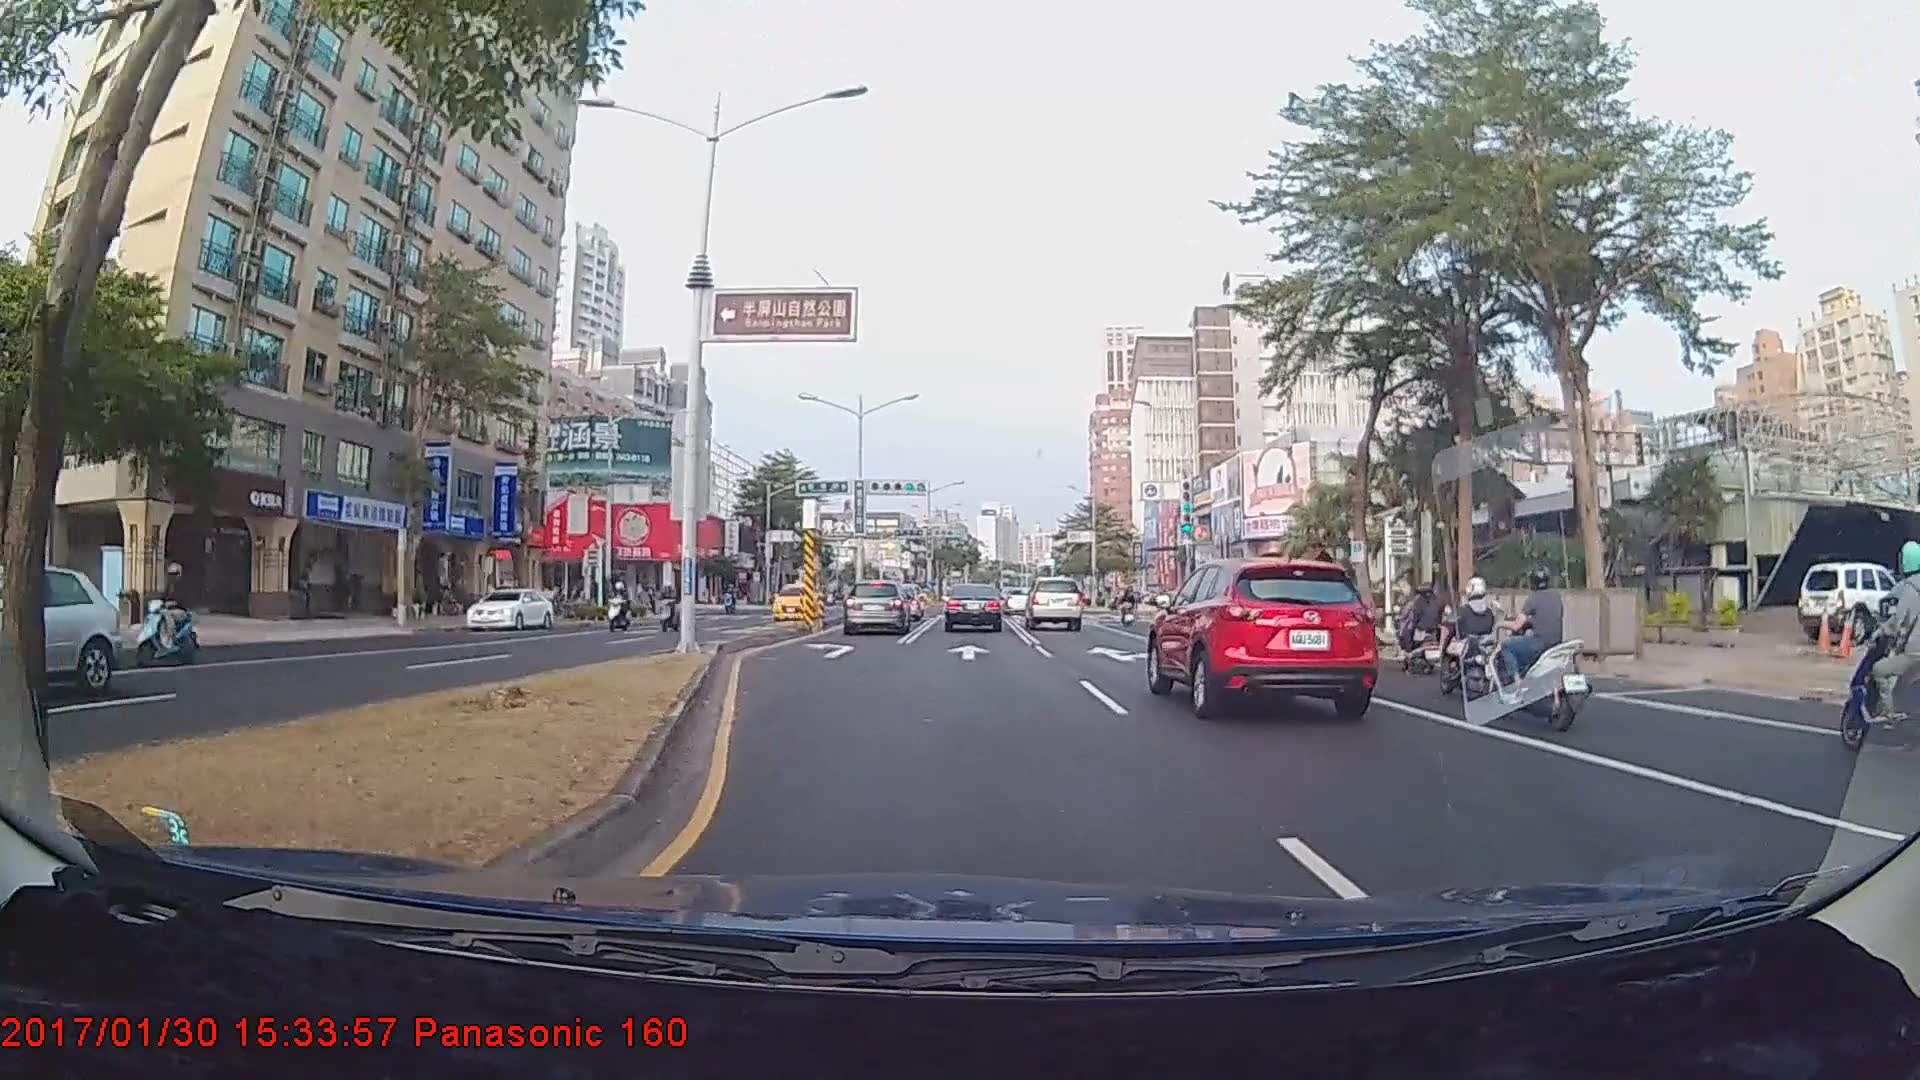rider: (1488, 566, 1599, 731), (1433, 569, 1509, 693), (134, 561, 205, 670), (1390, 576, 1450, 673), (599, 576, 637, 640), (652, 578, 685, 635)
vehicle: (1153, 553, 1377, 716), (0, 568, 119, 695), (1794, 563, 1905, 641), (466, 585, 554, 633), (842, 579, 912, 636), (1025, 575, 1084, 631), (943, 582, 1003, 634), (770, 582, 823, 619)
